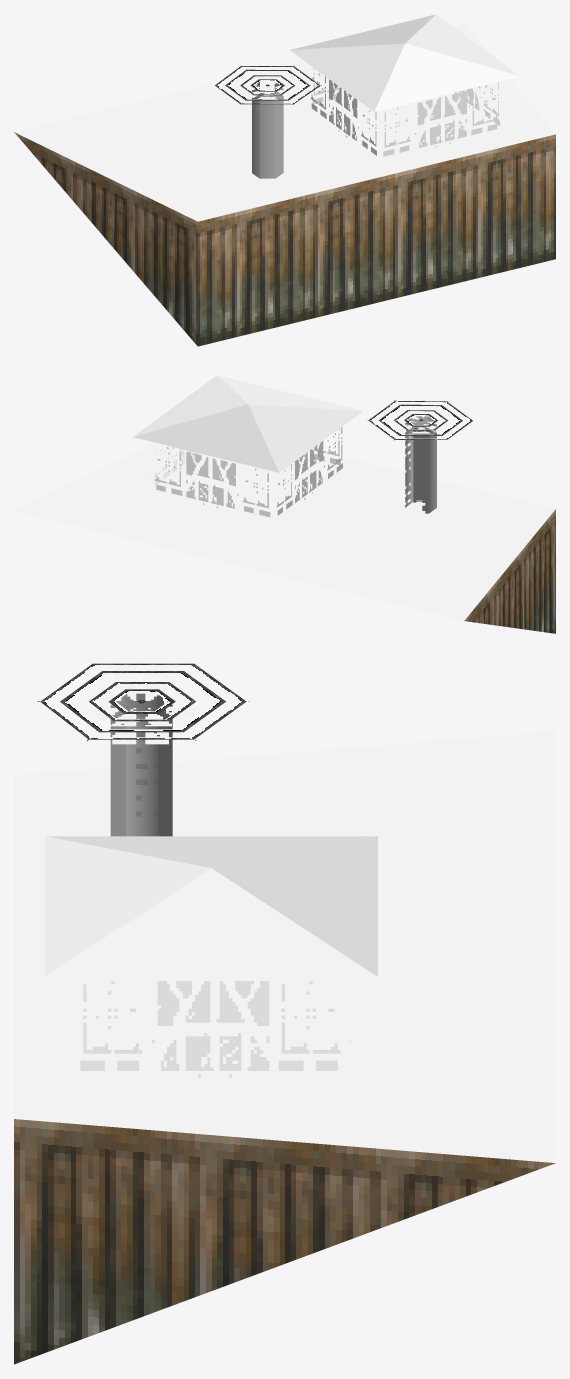
File: uvmd-0201.glb
The picture shows the model from 3 angles, top to bottom: view 1: azimuth 30°, elevation 25°; view 2: azimuth 150°, elevation 25°; view 3: azimuth 270°, elevation 25°; orthographic projection. The views are drawn at different scales.
Parts seen in each view (by area): view 1: uvmd-0201; view 2: uvmd-0201; view 3: uvmd-0201.
Part boxes in pixels (x1,y1,x2,y2): uvmd-0201: (14, 14, 555, 346); uvmd-0201: (14, 375, 555, 633); uvmd-0201: (14, 663, 555, 1364).
Size of the model in its own units: 264 by 119 by 140.
6 materials, 6 textured.
